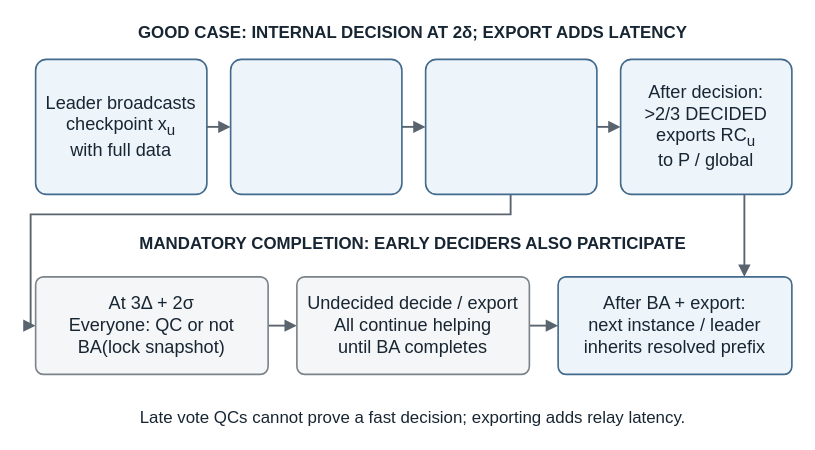
Some shapes in this 815 by 450 pixel diagram are drawn without their labels. Here are the shapes that lost their labels. From the top down, the box of each, then its label:
(229, 58, 402, 195): All-to-all VOTE At most one value per member
(424, 58, 597, 195): >2/3 vote QC Forward; set lock Decide if received by 2Δ + σ
